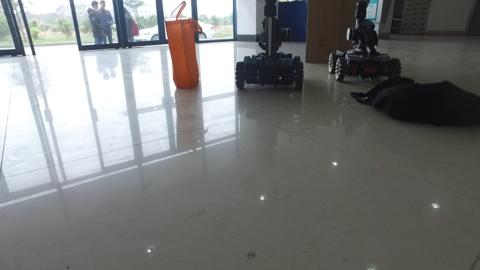bag: (162, 3, 202, 90)
chariot: (234, 1, 305, 89), (327, 1, 399, 82)
